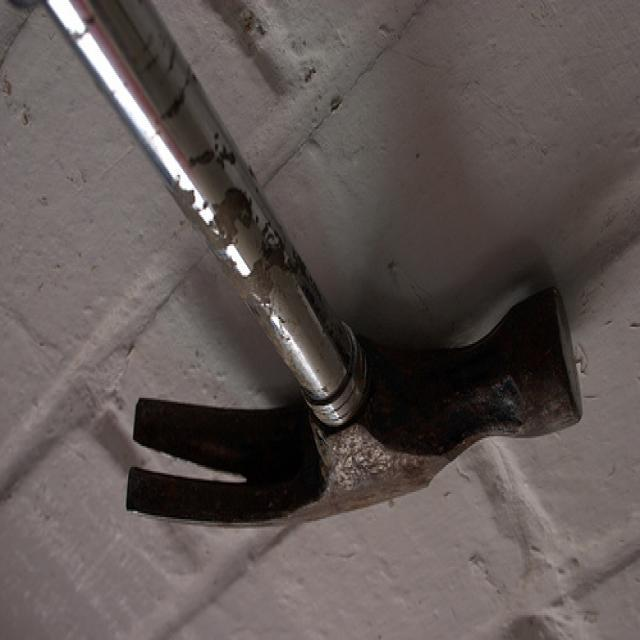hammer: (6, 0, 592, 549)
